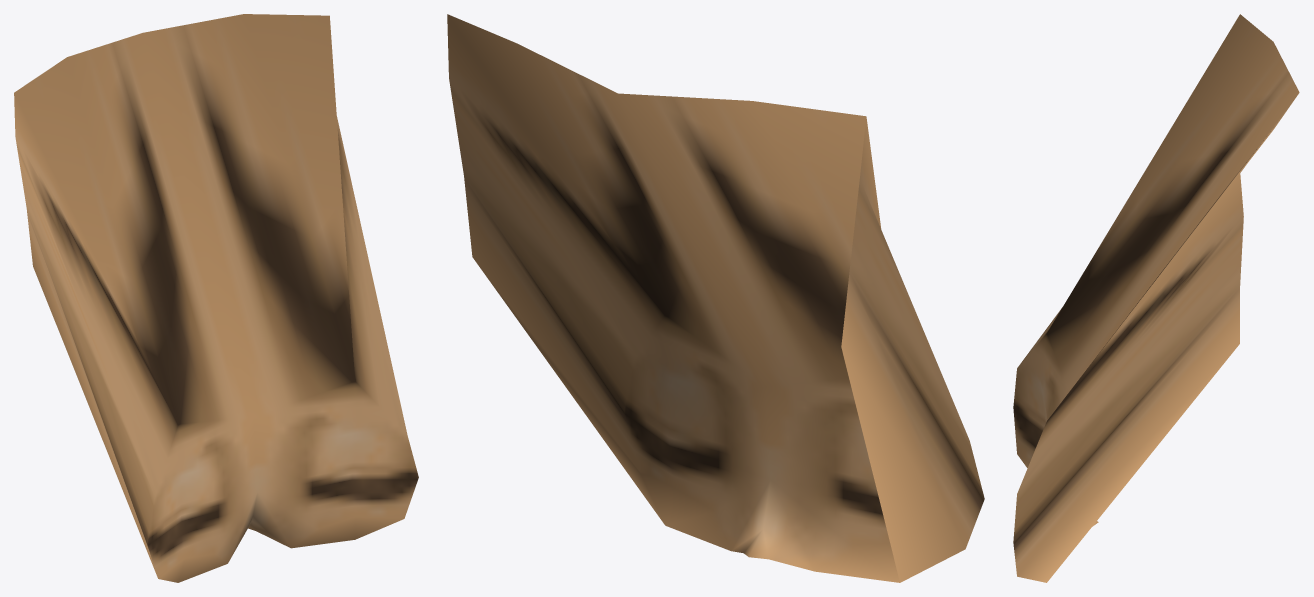
File: batch_0017.obj
3 renders of one model, left to right at view 1: azimuth 30°, elevation 25°; view 2: azimuth 150°, elevation 25°; view 3: azimuth 270°, elevation 25°, orthographic. The views are drawn at different scales.
Parts seen in each view (by area): view 1: batch_0017; view 2: batch_0017; view 3: batch_0017.
Part boxes in pixels (x1,y1,x2,y2): batch_0017: (14,14,418,582); batch_0017: (447,14,984,582); batch_0017: (1013,14,1299,582).
Size of the model in its own units: 25 by 33.63 by 19.25.
1 material, 1 textured.
